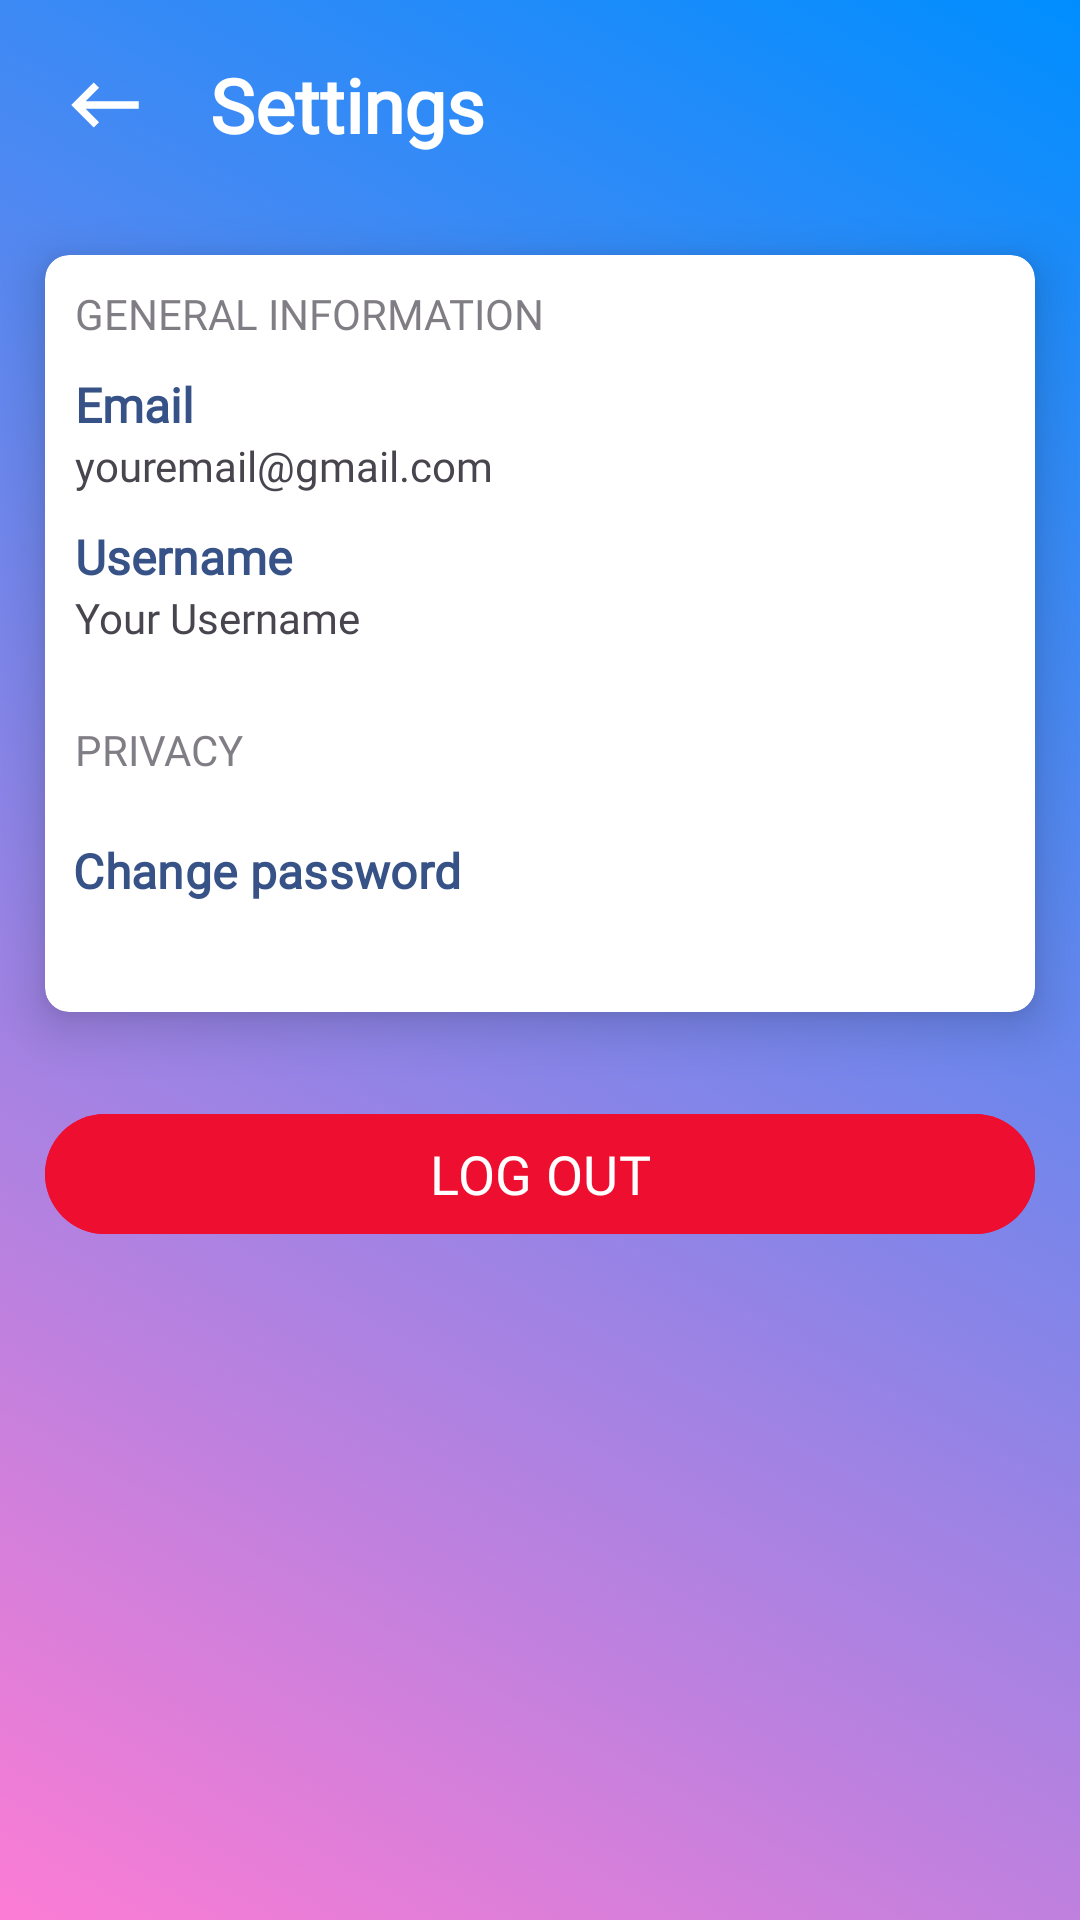

Point at icon controls on the screen. Image size 1080w x 1920h, points as [x,y].
keyboard backspace: [105,105]
